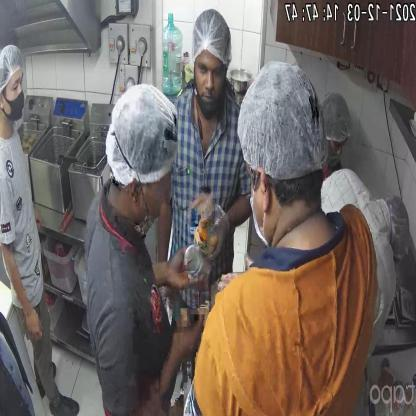no_apron: (173, 95, 245, 281), (103, 224, 179, 393), (0, 121, 52, 313)
